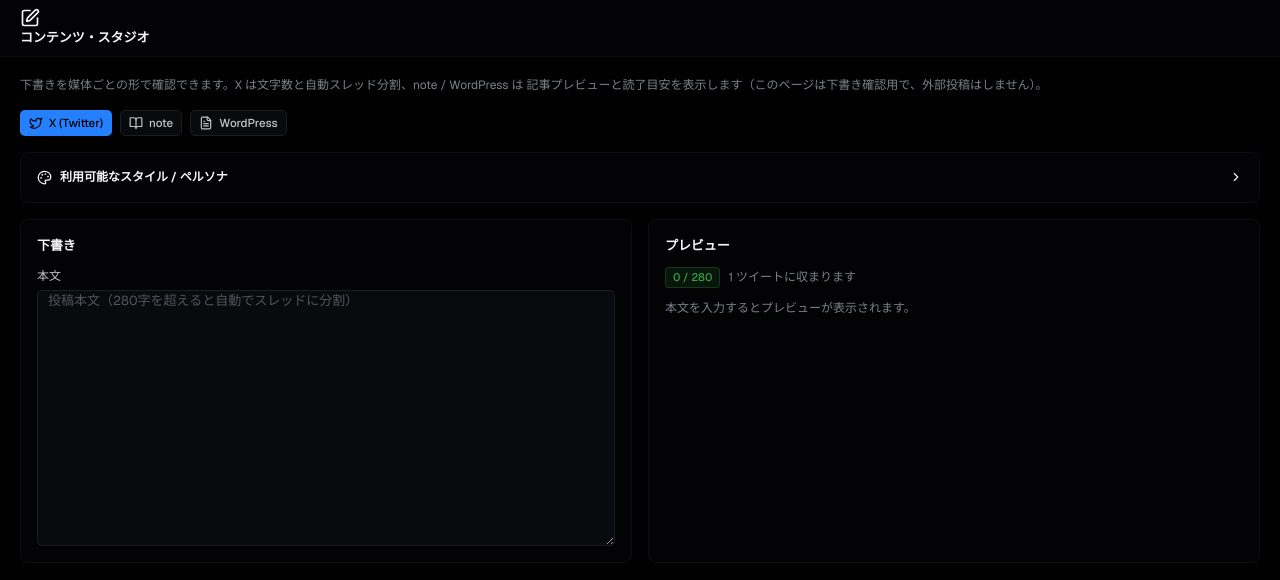
Test: X タブで文字数カウントを表示する
Type "こんにちは" into the text box labelled "本文" at (326,418), box [37,290,615,546]
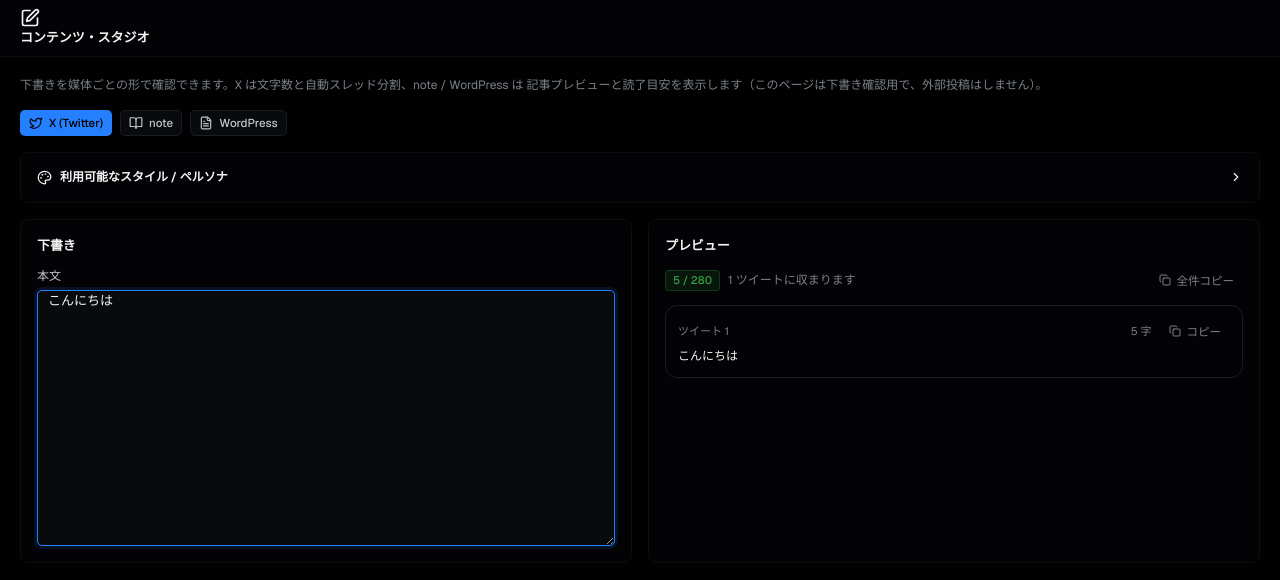
Now the text "5 / 280" is shown, box [665,270,720,290]
